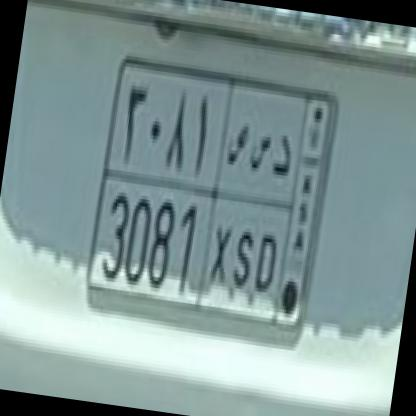english: (80, 162, 300, 325)
